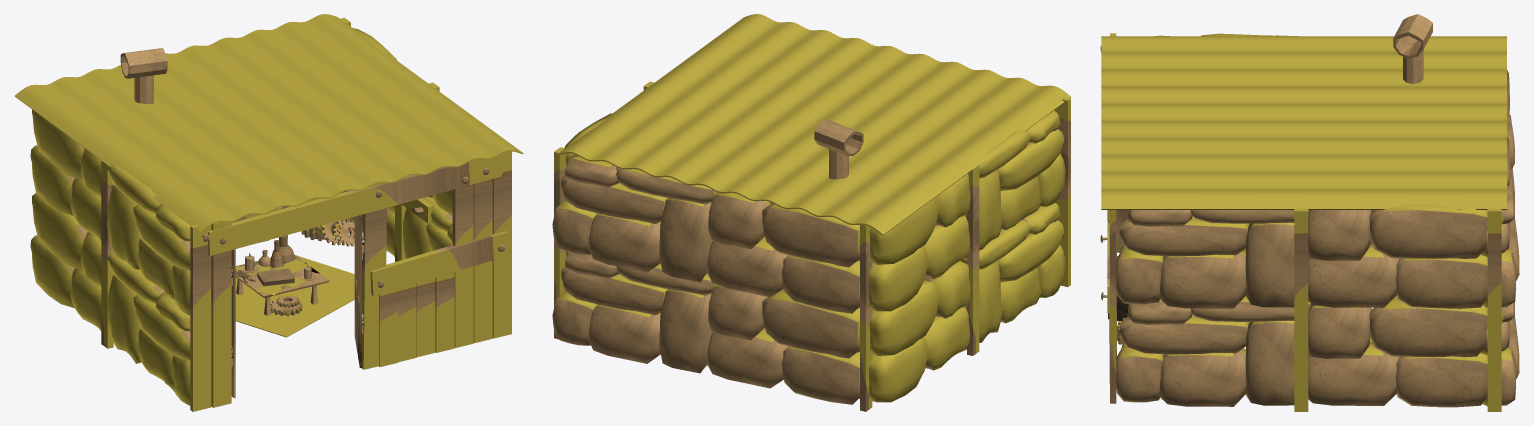
The model's file is Science shack.fbx.
3 views of the same model, side by side, from view 1: azimuth 30°, elevation 25°; view 2: azimuth 150°, elevation 25°; view 3: azimuth 270°, elevation 25° (orthographic). The views are drawn at different scales.
Visible parts, largest first — view 1: polySurface444; view 2: polySurface444; view 3: polySurface444.
Boxes of the visible parts, x1,y1,x2,y2 form: polySurface444: (14, 14, 523, 411); polySurface444: (552, 14, 1071, 411); polySurface444: (1100, 14, 1519, 411).
Bounding box in the file's own units: 551 × 368 × 536.
